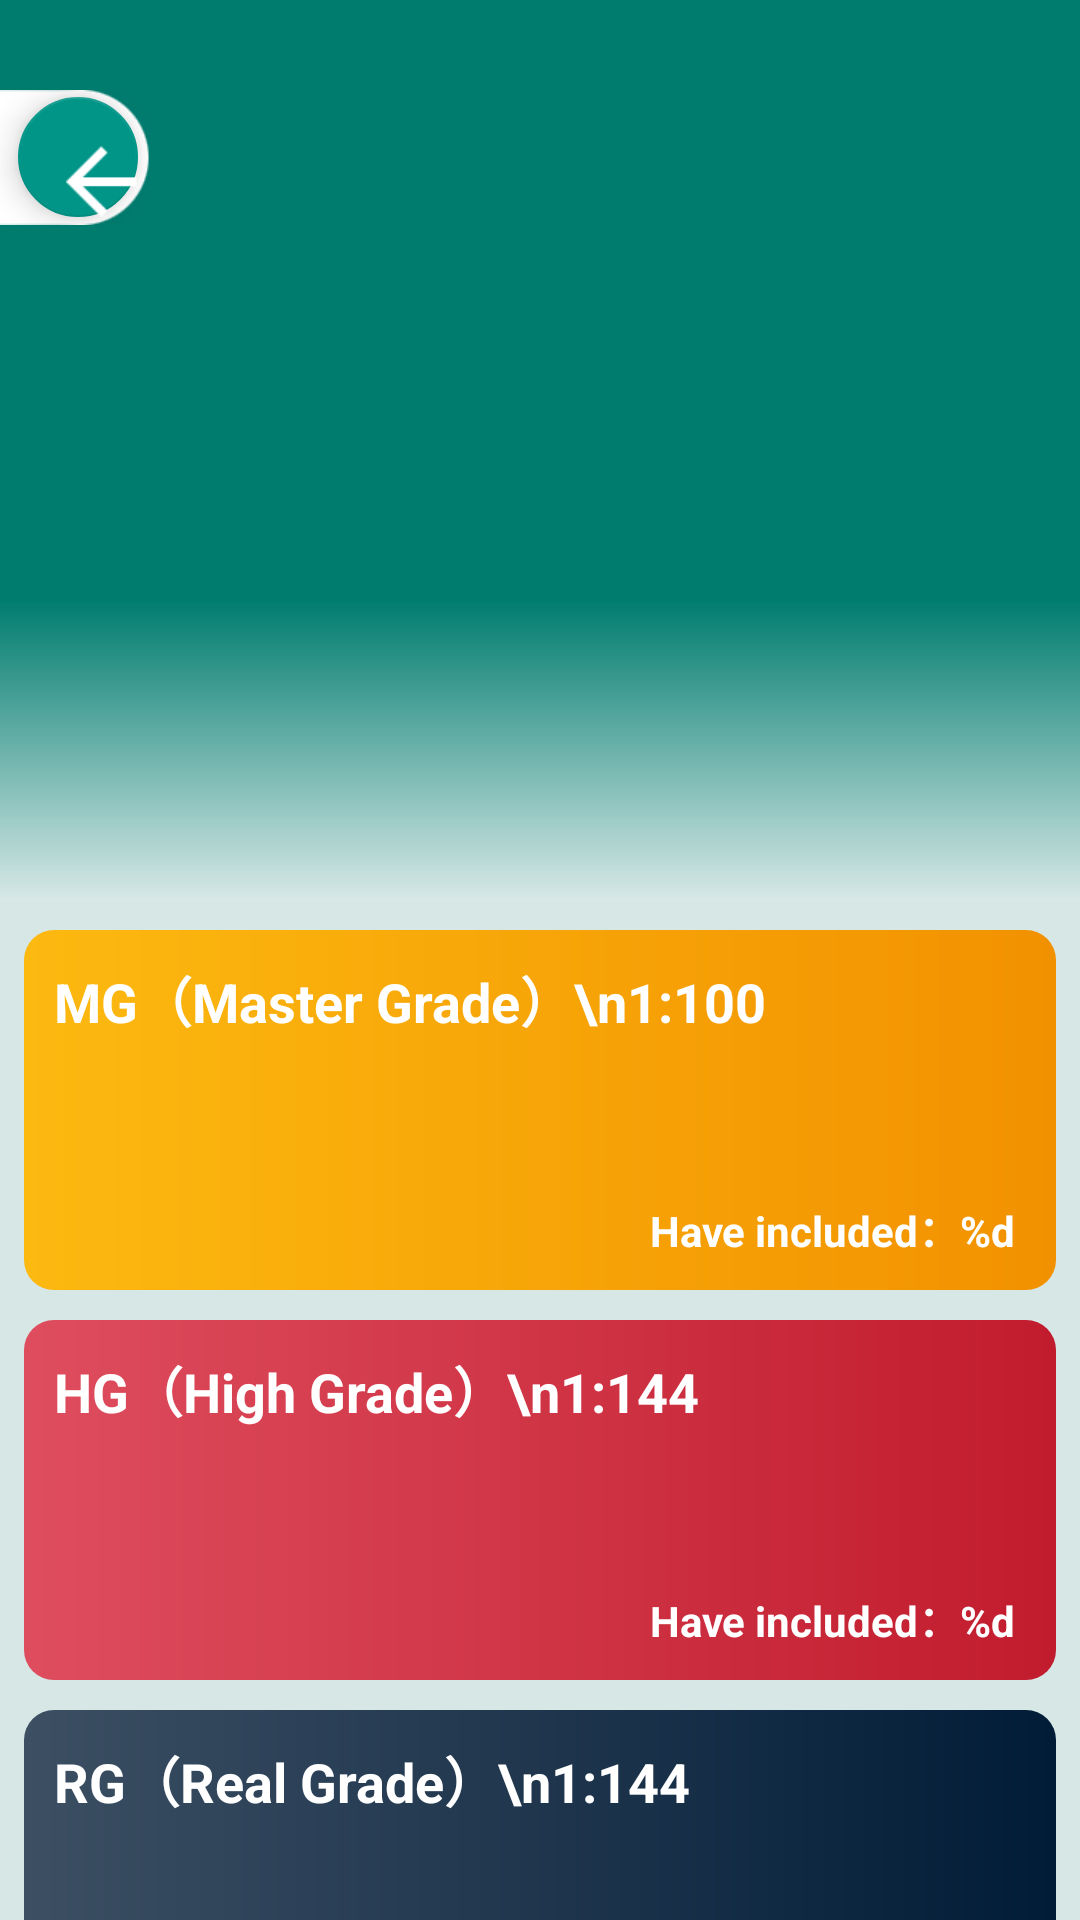

Named icons in this screenshot (1080 × 1920) and their centers, (x,y):
back mst: (78,157)
